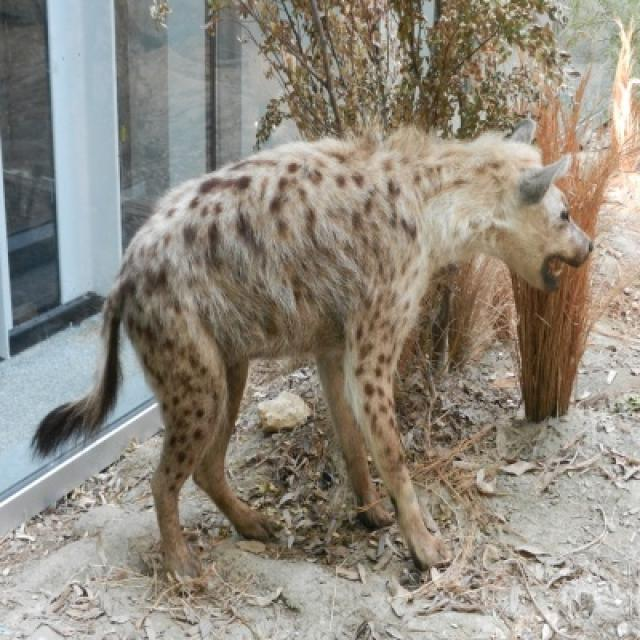hyena: (32, 125, 595, 592)
